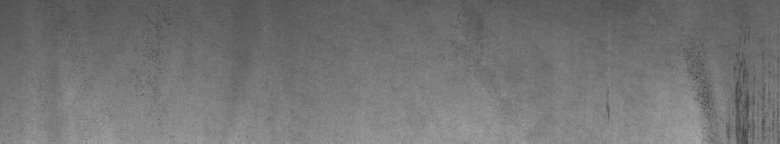ka: (677, 28, 776, 136)
